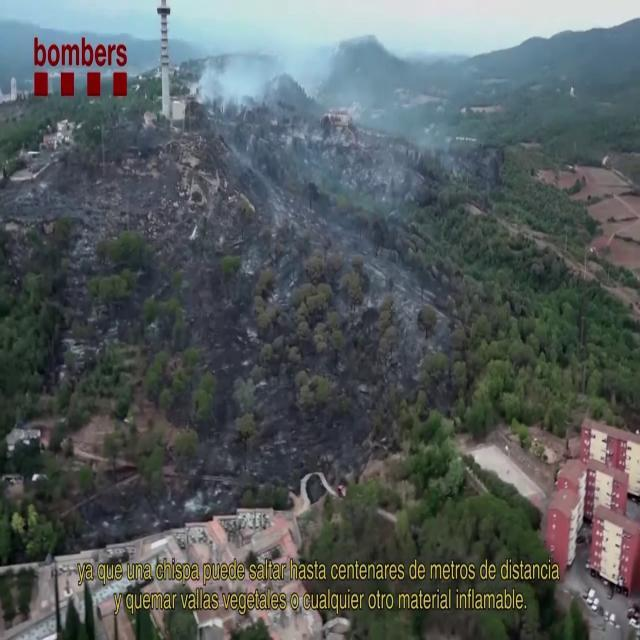Smoke: (190, 33, 284, 119)
